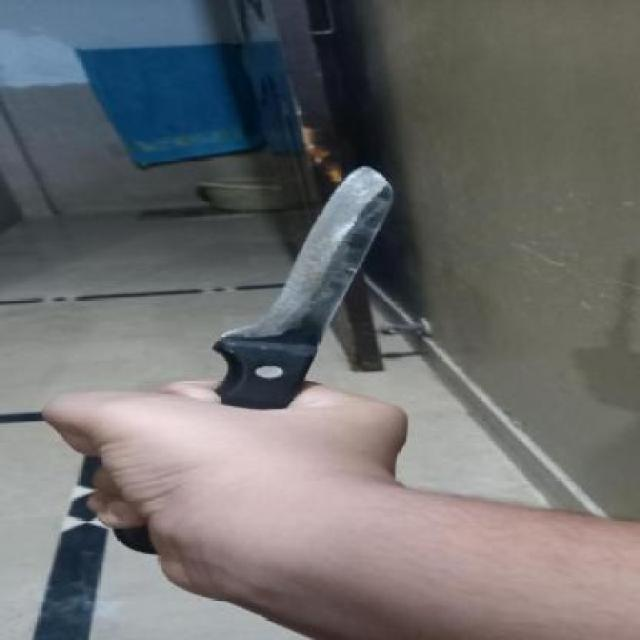knife: (112, 166, 392, 552)
